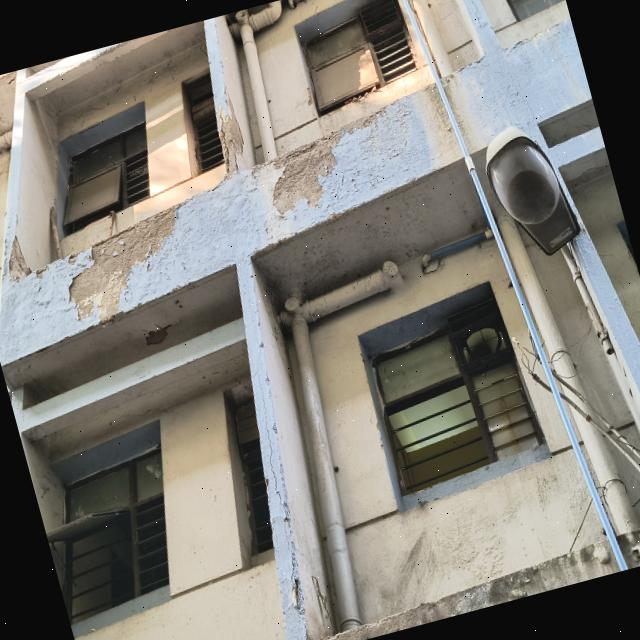Scaling: (69, 206, 180, 318), (269, 130, 342, 216), (219, 115, 242, 177), (222, 120, 237, 170)
